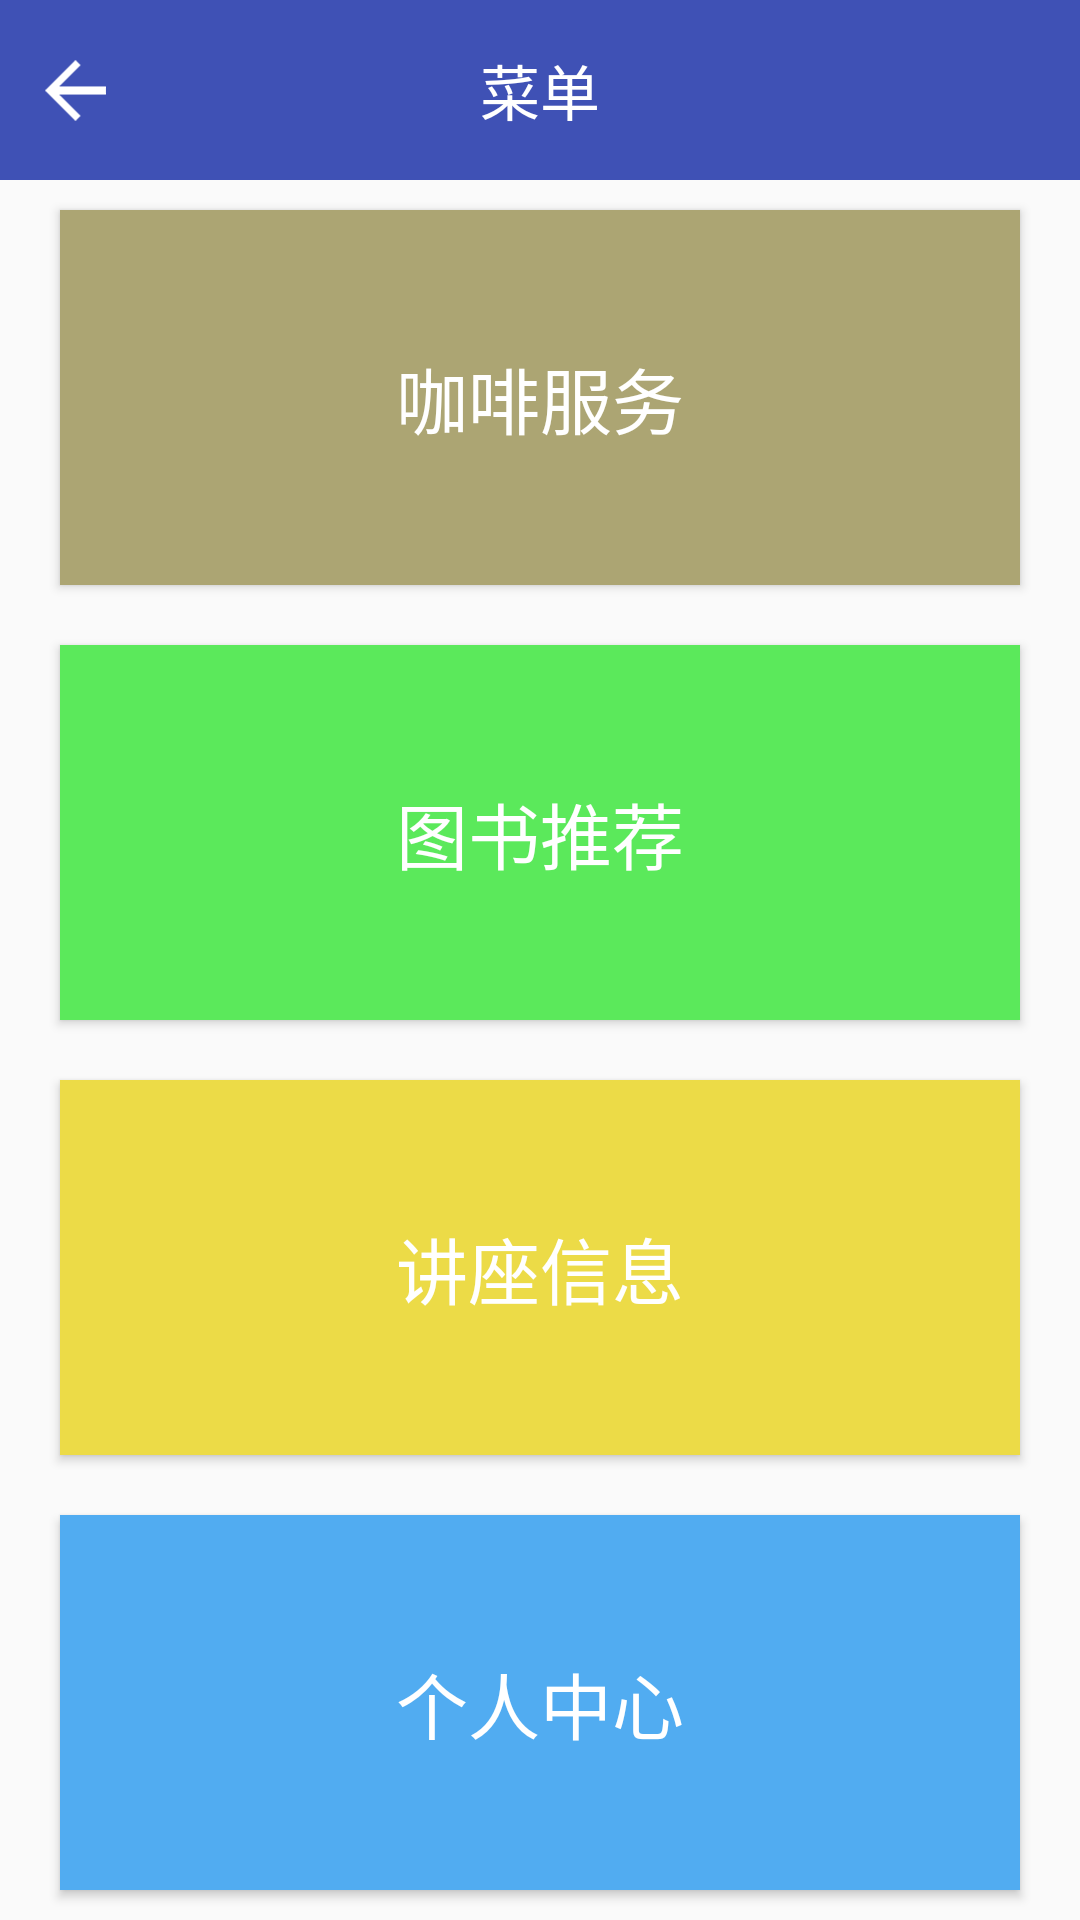

Named icons in this screenshot (1080px×1920px) and their centers, point (x, y):
back: point (75, 90)
